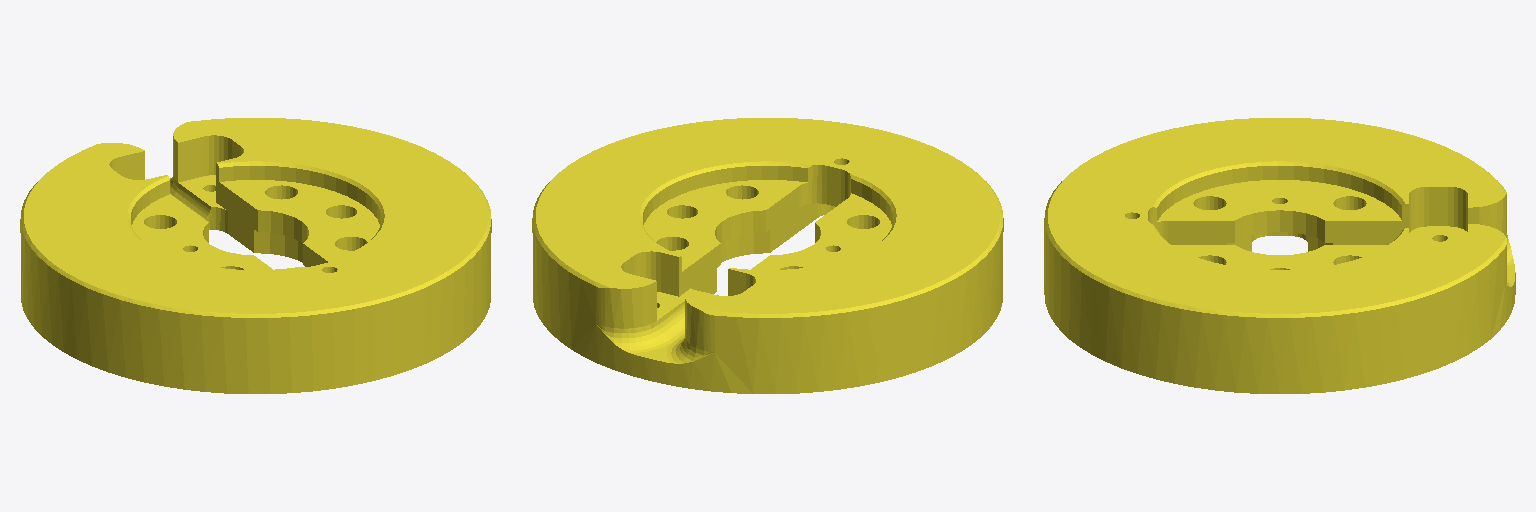
URDF robot description (ur5):
<?xml version="1.0" encoding="utf-8"?>
<!-- =================================================================================== -->
<!-- |    This document was autogenerated by xacro from ur3_robotiq85_gripper.urdf.xacro | -->
<!-- |    EDITING THIS FILE BY HAND IS NOT RECOMMENDED                                 | -->
<!-- =================================================================================== -->
<robot name="ur5">
  <gazebo>
    <plugin filename="libgazebo_ros_control.so" name="ros_control">
      <!--robotNamespace>/</robotNamespace-->
      <!--robotSimType>gazebo_ros_control/DefaultRobotHWSim</robotSimType-->
    </plugin>
    <!--
    <plugin name="gazebo_ros_power_monitor_controller" filename="libgazebo_ros_power_monitor.so">
      <alwaysOn>true</alwaysOn>
      <updateRate>1.0</updateRate>
      <timeout>5</timeout>
      <powerStateTopic>power_state</powerStateTopic>
      <powerStateRate>10.0</powerStateRate>
      <fullChargeCapacity>87.78</fullChargeCapacity>     
      <dischargeRate>-474</dischargeRate>
      <chargeRate>525</chargeRate>
      <dischargeVoltage>15.52</dischargeVoltage>
      <chargeVoltage>16.41</chargeVoltage>
    </plugin>
-->
  </gazebo>
  <!--
  Author: [author]
-->
  <!-- measured from model -->
  <link name="base_link">
    <visual>
      <geometry>
        <mesh filename="../meshes/visual/base.dae"/>
      </geometry>
      <material name="LightGrey">
        <color rgba="0.7 0.7 0.7 1.0"/>
      </material>
    </visual>
    <collision>
      <geometry>
        <mesh filename="../meshes/collision/base.stl"/>
      </geometry>
    </collision>
    <inertial>
      <mass value="2.0"/>
      <origin rpy="0 0 0" xyz="0.0 0.0 0.0"/>
      <inertia ixx="0.0030531654454" ixy="0.0" ixz="0.0" iyy="0.0030531654454" iyz="0.0" izz="0.005625"/>
    </inertial>
  </link>
  <joint name="shoulder_pan_joint" type="revolute">
    <parent link="base_link"/>
    <child link="shoulder_link"/>
    <origin rpy="0.0 0.0 0.0" xyz="0.0 0.0 0.1519"/>
    <axis xyz="0 0 1"/>
    <limit effort="330.0" lower="-3.14159265359" upper="3.14159265359" velocity="2.16"/>
    <dynamics damping="0.0" friction="0.0"/>
  </joint>
  <link name="shoulder_link">
    <visual>
      <geometry>
        <mesh filename="../meshes/visual/shoulder.dae"/>
      </geometry>
      <material name="LightGrey">
        <color rgba="0.7 0.7 0.7 1.0"/>
      </material>
    </visual>
    <collision>
      <geometry>
        <mesh filename="../meshes/collision/shoulder.stl"/>
      </geometry>
    </collision>
    <inertial>
      <mass value="2.0"/>
      <origin rpy="0 0 0" xyz="0.0 0.0 0.0"/>
      <inertia ixx="0.0080931634294" ixy="0.0" ixz="0.0" iyy="0.0080931634294" iyz="0.0" izz="0.005625"/>
    </inertial>
  </link>
  <joint name="shoulder_lift_joint" type="revolute">
    <parent link="shoulder_link"/>
    <child link="upper_arm_link"/>
    <origin rpy="0.0 1.57079632679 0.0" xyz="0.0 0.1198 0.0"/>
    <axis xyz="0 1 0"/>
    <limit effort="330.0" lower="-3.14159265359" upper="3.14159265359" velocity="2.16"/>
    <dynamics damping="0.0" friction="0.0"/>
  </joint>
  <link name="upper_arm_link">
    <visual>
      <geometry>
        <mesh filename="../meshes/visual/upperarm.dae"/>
      </geometry>
      <material name="LightGrey">
        <color rgba="0.7 0.7 0.7 1.0"/>
      </material>
    </visual>
    <collision>
      <geometry>
        <mesh filename="../meshes/collision/upperarm.stl"/>
      </geometry>
    </collision>
    <inertial>
      <mass value="3.42"/>
      <origin rpy="0 0 0" xyz="0.0 0.0 0.121825"/>
      <inertia ixx="0.0217284832211" ixy="0.0" ixz="0.0" iyy="0.0217284832211" iyz="0.0" izz="0.00961875"/>
    </inertial>
  </link>
  <joint name="elbow_joint" type="revolute">
    <parent link="upper_arm_link"/>
    <child link="forearm_link"/>
    <origin rpy="0.0 0.0 0.0" xyz="0.0 -0.0925 0.24365"/>
    <axis xyz="0 1 0"/>
    <limit effort="150.0" lower="-3.14159265359" upper="3.14159265359" velocity="3.15"/>
    <dynamics damping="0.0" friction="0.0"/>
  </joint>
  <link name="forearm_link">
    <visual>
      <geometry>
        <mesh filename="../meshes/visual/forearm.dae"/>
      </geometry>
      <material name="LightGrey">
        <color rgba="0.7 0.7 0.7 1.0"/>
      </material>
    </visual>
    <collision>
      <geometry>
        <mesh filename="../meshes/collision/forearm.stl"/>
      </geometry>
    </collision>
    <inertial>
      <mass value="1.26"/>
      <origin rpy="0 0 0" xyz="0.0 0.0 0.106625"/>
      <inertia ixx="0.00654680644378" ixy="0.0" ixz="0.0" iyy="0.00654680644378" iyz="0.0" izz="0.00354375"/>
    </inertial>
  </link>
  <joint name="wrist_1_joint" type="revolute">
    <parent link="forearm_link"/>
    <child link="wrist_1_link"/>
    <origin rpy="0.0 1.57079632679 0.0" xyz="0.0 0.0 0.21325"/>
    <axis xyz="0 1 0"/>
    <limit effort="54.0" lower="-3.14159265359" upper="3.14159265359" velocity="3.2"/>
    <dynamics damping="0.0" friction="0.0"/>
  </joint>
  <link name="wrist_1_link">
    <visual>
      <geometry>
        <mesh filename="../meshes/visual/wrist1.dae"/>
      </geometry>
      <material name="LightGrey">
        <color rgba="0.7 0.7 0.7 1.0"/>
      </material>
    </visual>
    <collision>
      <geometry>
        <mesh filename="../meshes/collision/wrist1.stl"/>
      </geometry>
    </collision>
    <inertial>
      <mass value="0.8"/>
      <origin rpy="0 0 0" xyz="0.0 0.08505 0.0"/>
      <inertia ixx="0.002084999166" ixy="0.0" ixz="0.0" iyy="0.002084999166" iyz="0.0" izz="0.00225"/>
    </inertial>
  </link>
  <joint name="wrist_2_joint" type="revolute">
    <parent link="wrist_1_link"/>
    <child link="wrist_2_link"/>
    <origin rpy="0.0 0.0 0.0" xyz="0.0 0.08505 0.0"/>
    <axis xyz="0 0 1"/>
    <limit effort="54.0" lower="-3.14159265359" upper="3.14159265359" velocity="3.2"/>
    <dynamics damping="0.0" friction="0.0"/>
  </joint>
  <link name="wrist_2_link">
    <visual>
      <geometry>
        <mesh filename="../meshes/visual/wrist2.dae"/>
      </geometry>
      <material name="LightGrey">
        <color rgba="0.7 0.7 0.7 1.0"/>
      </material>
    </visual>
    <collision>
      <geometry>
        <mesh filename="../meshes/collision/wrist2.stl"/>
      </geometry>
    </collision>
    <inertial>
      <mass value="0.8"/>
      <origin rpy="0 0 0" xyz="0.0 0.0 0.08535"/>
      <inertia ixx="0.002084999166" ixy="0.0" ixz="0.0" iyy="0.002084999166" iyz="0.0" izz="0.00225"/>
    </inertial>
  </link>
  <joint name="wrist_3_joint" type="revolute">
    <parent link="wrist_2_link"/>
    <child link="wrist_3_link"/>
    <origin rpy="0.0 0.0 0.0" xyz="0.0 0.0 0.08535"/>
    <axis xyz="0 1 0"/>
    <limit effort="54.0" lower="-3.14159265359" upper="3.14159265359" velocity="3.2"/>
    <dynamics damping="0.0" friction="0.0"/>
  </joint>
  <link name="wrist_3_link">
    <visual>
      <geometry>
        <mesh filename="../meshes/visual/wrist3.dae"/>
      </geometry>
      <material name="LightGrey">
        <color rgba="0.7 0.7 0.7 1.0"/>
      </material>
    </visual>
    <collision>
      <geometry>
        <mesh filename="../meshes/collision/wrist3.stl"/>
      </geometry>
    </collision>
    <inertial>
      <mass value="0.35"/>
      <origin rpy="1.57079632679 0 0" xyz="0.0 0.0619 0.0"/>
      <inertia ixx="0.00013626661216" ixy="0.0" ixz="0.0" iyy="0.00013626661216" iyz="0.0" izz="0.0001792"/>
    </inertial>
  </link>
  <joint name="ee_fixed_joint" type="fixed">
    <parent link="wrist_3_link"/>
    <child link="ee_link"/>
    <origin rpy="-1.57079632679 3.14159265359 0" xyz="0.0 0.0819 0.0"/>
  </joint>
  <link name="ee_link">
    <collision>
      <geometry>
        <box size="0.01 0.01 0.01"/>
      </geometry>
<!--      <origin rpy="-1.57079632679 0 3.14159265359" xyz="-0.01 0 0"/>-->
      <origin rpy="0 0 0" xyz="-0.01 0 0"/>
    </collision>
  </link>
  <transmission name="shoulder_pan_trans">
    <type>transmission_interface/SimpleTransmission</type>
    <joint name="shoulder_pan_joint">
      <hardwareInterface>hardware_interface/PositionJointInterface</hardwareInterface>
    </joint>
    <actuator name="shoulder_pan_motor">
      <mechanicalReduction>1</mechanicalReduction>
    </actuator>
  </transmission>
  <transmission name="shoulder_lift_trans">
    <type>transmission_interface/SimpleTransmission</type>
    <joint name="shoulder_lift_joint">
      <hardwareInterface>hardware_interface/PositionJointInterface</hardwareInterface>
    </joint>
    <actuator name="shoulder_lift_motor">
      <mechanicalReduction>1</mechanicalReduction>
    </actuator>
  </transmission>
  <transmission name="elbow_trans">
    <type>transmission_interface/SimpleTransmission</type>
    <joint name="elbow_joint">
      <hardwareInterface>hardware_interface/PositionJointInterface</hardwareInterface>
    </joint>
    <actuator name="elbow_motor">
      <mechanicalReduction>1</mechanicalReduction>
    </actuator>
  </transmission>
  <transmission name="wrist_1_trans">
    <type>transmission_interface/SimpleTransmission</type>
    <joint name="wrist_1_joint">
      <hardwareInterface>hardware_interface/PositionJointInterface</hardwareInterface>
    </joint>
    <actuator name="wrist_1_motor">
      <mechanicalReduction>1</mechanicalReduction>
    </actuator>
  </transmission>
  <transmission name="wrist_2_trans">
    <type>transmission_interface/SimpleTransmission</type>
    <joint name="wrist_2_joint">
      <hardwareInterface>hardware_interface/PositionJointInterface</hardwareInterface>
    </joint>
    <actuator name="wrist_2_motor">
      <mechanicalReduction>1</mechanicalReduction>
    </actuator>
  </transmission>
  <transmission name="wrist_3_trans">
    <type>transmission_interface/SimpleTransmission</type>
    <joint name="wrist_3_joint">
      <hardwareInterface>hardware_interface/PositionJointInterface</hardwareInterface>
    </joint>
    <actuator name="wrist_3_motor">
      <mechanicalReduction>1</mechanicalReduction>
    </actuator>
  </transmission>
  <gazebo reference="shoulder_link">
    <selfCollide>true</selfCollide>
  </gazebo>
  <gazebo reference="upper_arm_link">
    <selfCollide>true</selfCollide>
  </gazebo>
  <gazebo reference="forearm_link">
    <selfCollide>true</selfCollide>
  </gazebo>
  <gazebo reference="wrist_1_link">
    <selfCollide>true</selfCollide>
  </gazebo>
  <gazebo reference="wrist_3_link">
    <selfCollide>true</selfCollide>
  </gazebo>
  <gazebo reference="wrist_2_link">
    <selfCollide>true</selfCollide>
  </gazebo>
  <gazebo reference="ee_link">
    <selfCollide>true</selfCollide>
  </gazebo>
  <!-- ROS base_link to UR 'Base' Coordinates transform -->
  <link name="base"/>
  <joint name="base_link-base_fixed_joint" type="fixed">
    <!-- NOTE: this rotation is only needed as long as base_link itself is
                 not corrected wrt the real robot (ie: rotated over 180
                 degrees)
      -->
    <origin rpy="0 0 0" xyz="0 0 0"/> <!-- rpy="0 0 -3.14159265359" -->
    <parent link="base_link"/>
    <child link="base"/>
  </joint>
  <!-- Frame coincident with all-zeros TCP on UR controller -->
  <link name="tool0"/>
  <joint name="wrist_3_link-tool0_fixed_joint" type="fixed">
    <origin rpy="0 0 0" xyz="0 0 0"/> <!-- <origin rpy="-1.57079632679 0 0" xyz="0 0.0819 0"/> -->
    <parent link="ee_link"/>
    <child link="tool0"/>
  </joint>
  <link name="world"/>
  <joint name="world_joint" type="fixed">
    <parent link="world"/>
    <child link="base_link"/>
    <origin rpy="0.0 0.0 0.0" xyz="0.0 0.0 0.0"/>
  </joint>
  <!-- Robotiq Coupler -->
  <!--  + Height added by the coupler: 8mm -->
  <!--  + Reference frame: at the middle (4mm) -->
  <link name="robotiq_coupler">
    <visual>
      <geometry>
        <mesh filename="../../robotiq_description/meshes/visual/robotiq_85_coupler.dae"/>
      </geometry>
      <material name="flat_black"/>
    </visual>
    <collision>
      <geometry>
        <mesh filename="../../robotiq_description/meshes/robotiq_85_coupler.stl"/>
      </geometry>
    </collision>
    <inertial>
      <origin rpy="0 0 0" xyz="2.073e-05   1.45286e-03  -1.1049e-03"/>
      <mass value="0.168"/>
      <inertia ixx="6.69695624e-05" ixy="5.21511788e-09" ixz="-2.74383009e-08" iyy="7.85088161e-05" iyz="5.41105193e-07" izz="1.41819717e-04"/>
    </inertial>
  </link>
  <joint name="robotiq_coupler_joint" type="fixed">
    <origin rpy="-1.57079632679 0 0" xyz="0 0 0"/> <!--    <origin rpy="0 0 -1.57079632679" xyz="0 0 0.004"/>-->
    <parent link="tool0"/>
    <child link="robotiq_coupler"/>
  </joint>
  <gazebo reference="robotiq_coupler">
    <mu1>0.9</mu1>
    <mu2>0.9</mu2>
    <material>Gazebo/FlatBlack</material>
  </gazebo>
  <!-- Equivalent to the OpenRAVE manipulator denso_robotiq_85_gripper -->
  <!-- <link name="denso_robotiq_85_gripper" /> -->
  <!-- <joint name="manipulator_dummy_joint" type="fixed"> -->
  <!--   <origin xyz="0 0 0.1441" rpy="0 0 0" /> -->
  <!--   <parent link="robotiq_coupler"/> -->
  <!--   <child link="denso_robotiq_85_gripper"/> -->
  <!-- </joint> -->
  <joint name="robotiq_85_base_joint" type="fixed">
    <parent link="robotiq_coupler"/>
    <child link="robotiq_85_base_link"/>
<!--    <origin rpy="0 -1.57079632679 3.14159265359" xyz="0 0 0.004"/>-->
    <origin rpy="0 0 -1.57079632679" xyz="0 0 0"/>
  </joint>
  <link name="robotiq_85_base_link">
    <visual>
      <geometry>
        <mesh filename="../../robotiq_description/meshes/visual/robotiq_85_base_link.dae"/>
      </geometry>
    </visual>
    <collision>
      <geometry>
        <mesh filename="../../robotiq_description/meshes/collision/robotiq_85_base_link.stl"/>
      </geometry>
    </collision>
    <inertial>
      <mass value="0.636951"/>
      <origin xyz="0.0 0.0 0.0"/>
      <inertia ixx="0.000380" ixy="0.000000" ixz="0.000000" iyx="0.000000" iyy="0.001110" iyz="0.000000" izx="0.000000" izy="0.000000" izz="0.001171"/>
    </inertial>
  </link>
  <joint name="robotiq_85_left_knuckle_joint" type="revolute">  <!-- (8), revolute -->
    <parent link="robotiq_85_base_link"/>
    <child link="robotiq_85_left_knuckle_link"/>
    <axis xyz="0 0 1"/>
    <origin rpy="3.14159265359 0.0 0.0" xyz="0.05490451627 0.03060114443 0.0"/>
    <limit effort="100" lower="0.0" upper="0.80285" velocity="0.2"/>
  </joint>
  <joint name="robotiq_85_right_knuckle_joint" type="revolute"> <!-- (11), continuous -->
    <parent link="robotiq_85_base_link"/>
    <child link="robotiq_85_right_knuckle_link"/>
    <axis xyz="0 0 1"/>
    <origin rpy="0.0 0.0 0.0" xyz="0.05490451627 -0.03060114443 0.0"/>
    <limit effort="100" lower="0.0" upper="0.80285" velocity="0.2"/>
  </joint>
  <link name="robotiq_85_left_knuckle_link">
    <visual>
      <geometry>
        <mesh filename="../../robotiq_description/meshes/visual/robotiq_85_knuckle_link.dae"/>
      </geometry>
    </visual>
    <collision>
      <geometry>
        <mesh filename="../../robotiq_description/meshes/collision/robotiq_85_knuckle_link.stl"/>
      </geometry>
    </collision>
    <inertial>
      <mass value="0.018491"/>
      <origin xyz="0.0 0.0 0.0"/>
      <inertia ixx="0.000009" ixy="-0.000001" ixz="0.000000" iyx="-0.000001" iyy="0.000001" iyz="0.000000" izx="0.000000" izy="0.000000" izz="0.000010"/>
    </inertial>
  </link>
  <link name="robotiq_85_right_knuckle_link">
    <visual>
      <geometry>
        <mesh filename="../../robotiq_description/meshes/visual/robotiq_85_knuckle_link.dae"/>
      </geometry>
    </visual>
    <collision>
      <geometry>
        <mesh filename="../../robotiq_description/meshes/collision/robotiq_85_knuckle_link.stl"/>
      </geometry>
    </collision>
    <inertial>
      <mass value="0.018491"/>
      <origin xyz="0.0 0.0 0.0"/>
      <inertia ixx="0.000009" ixy="-0.000001" ixz="0.000000" iyx="-0.000001" iyy="0.000001" iyz="0.000000" izx="0.000000" izy="0.000000" izz="0.000010"/>
    </inertial>
  </link>
  <joint name="robotiq_85_left_finger_joint" type="fixed">
    <parent link="robotiq_85_left_knuckle_link"/>
    <child link="robotiq_85_left_finger_link"/>
    <origin rpy="0 0 0" xyz="-0.00408552455 -0.03148604435 0.0"/>
  </joint>
  <joint name="robotiq_85_right_finger_joint" type="fixed">
    <parent link="robotiq_85_right_knuckle_link"/>
    <child link="robotiq_85_right_finger_link"/>
    <origin rpy="0 0 0" xyz="-0.00408552455 -0.03148604435 0.0"/>
  </joint>
  <link name="robotiq_85_left_finger_link">
    <visual>
      <geometry>
        <mesh filename="../../robotiq_description/meshes/visual/robotiq_85_finger_link.dae"/>
      </geometry>
    </visual>
    <collision>
      <geometry>
        <mesh filename="../../robotiq_description/meshes/collision/robotiq_85_finger_link.stl"/>
      </geometry>
    </collision>
    <inertial>
      <mass value="0.027309"/>
      <origin xyz="0.0 0.0 0.0"/>
      <inertia ixx="0.000003" ixy="-0.000002" ixz="0.000000" iyx="-0.000002" iyy="0.000021" iyz="0.000000" izx="0.000000" izy="0.000000" izz="0.000020"/>
    </inertial>
  </link>
  <link name="robotiq_85_right_finger_link">
    <visual>
      <geometry>
        <mesh filename="../../robotiq_description/meshes/visual/robotiq_85_finger_link.dae"/>
      </geometry>
    </visual>
    <collision>
      <geometry>
        <mesh filename="../../robotiq_description/meshes/collision/robotiq_85_finger_link.stl"/>
      </geometry>
    </collision>
    <inertial>
      <mass value="0.027309"/>
      <origin xyz="0.0 0.0 0.0"/>
      <inertia ixx="0.000003" ixy="-0.000002" ixz="0.000000" iyx="-0.000002" iyy="0.000021" iyz="0.000000" izx="0.000000" izy="0.000000" izz="0.000020"/>
    </inertial>
  </link>
  <joint name="robotiq_85_left_inner_knuckle_joint" type="revolute">  <!-- (6), continuous -->
    <parent link="robotiq_85_base_link"/>
    <child link="robotiq_85_left_inner_knuckle_link"/>
    <axis xyz="0 0 1"/>
    <origin rpy="3.14159265359 0.0 0.0" xyz="0.06142 0.0127 0"/>
    <limit effort="100" lower="0.0" upper="0.80285" velocity="0.2"/>  <!-- limit unit: radian -->
  </joint>
  <joint name="robotiq_85_right_inner_knuckle_joint" type="revolute"> <!-- (9), continuous -->
    <parent link="robotiq_85_base_link"/>
    <child link="robotiq_85_right_inner_knuckle_link"/>
    <axis xyz="0 0 1"/>
    <origin rpy="0 0 0" xyz="0.06142 -0.0127 0"/>
    <limit effort="100" lower="0.0" upper="0.80285" velocity="0.2"/>
  </joint>
  <link name="robotiq_85_left_inner_knuckle_link">
    <visual>
      <geometry>
        <mesh filename="../../robotiq_description/meshes/visual/robotiq_85_inner_knuckle_link.dae"/>
      </geometry>
    </visual>
    <collision>
      <geometry>
        <mesh filename="../../robotiq_description/meshes/collision/robotiq_85_inner_knuckle_link.stl"/>
      </geometry>
    </collision>
    <inertial>
      <mass value="0.029951"/>
      <origin xyz="0.0 0.0 0.0"/>
      <inertia ixx="0.000039" ixy="0.000000" ixz="0.000000" iyx="0.000000" iyy="0.000005" iyz="0.000000" izx="0.000000" izy="0.000000" izz="0.000035"/>
    </inertial>
  </link>
  <link name="robotiq_85_right_inner_knuckle_link">
    <visual>
      <geometry>
        <mesh filename="../../robotiq_description/meshes/visual/robotiq_85_inner_knuckle_link.dae"/>
      </geometry>
    </visual>
    <collision>
      <geometry>
        <mesh filename="../../robotiq_description/meshes/collision/robotiq_85_inner_knuckle_link.stl"/>
      </geometry>
    </collision>
    <inertial>
      <mass value="0.029951"/>
      <origin xyz="0.0 0.0 0.0"/>
      <inertia ixx="0.000039" ixy="0.000000" ixz="0.000000" iyx="0.000000" iyy="0.000005" iyz="0.000000" izx="0.000000" izy="0.000000" izz="0.000035"/>
    </inertial>
  </link>
  <joint name="robotiq_85_left_finger_tip_joint" type="revolute"> <!-- (7), continuous -->
    <parent link="robotiq_85_left_inner_knuckle_link"/>
    <child link="robotiq_85_left_finger_tip_link"/>
    <axis xyz="0 0 1"/>
    <origin rpy="0.0 0.0 0.0" xyz="0.04303959807 -0.03759940821 0.0"/>
    <limit effort="100" lower="-0.80285" upper="0.0" velocity="0.2"/>
  </joint>
  <joint name="robotiq_85_right_finger_tip_joint" type="revolute"> <!-- (10), continuous -->
    <parent link="robotiq_85_right_inner_knuckle_link"/>
    <child link="robotiq_85_right_finger_tip_link"/>
    <axis xyz="0 0 1"/>
    <origin rpy="0.0 0.0 0.0" xyz="0.04303959807 -0.03759940821  0.0"/>
    <limit effort="100" lower="-0.80285" upper="0.0" velocity="0.2"/>
  </joint>
  <link name="robotiq_85_left_finger_tip_link">
    <visual>
      <geometry>
        <mesh filename="../../robotiq_description/meshes/visual/robotiq_85_finger_tip_link.dae"/>
      </geometry>
    </visual>
    <collision>
      <geometry>
        <mesh filename="../../robotiq_description/meshes/collision/robotiq_85_finger_tip_link.stl"/>
      </geometry>
    </collision>
    <inertial>
      <mass value="0.019555"/>
      <origin xyz="0.0 0.0 0.0"/>
      <inertia ixx="0.000002" ixy="0.000000" ixz="0.000000" iyx="0.000000" iyy="0.000005" iyz="0.000000" izx="0.000000" izy="0.000000" izz="0.000006"/>
    </inertial>
  </link>
  <link name="robotiq_85_right_finger_tip_link">
    <visual>
      <geometry>
        <mesh filename="../../robotiq_description/meshes/visual/robotiq_85_finger_tip_link.dae"/>
      </geometry>
    </visual>
    <collision>
      <geometry>
        <mesh filename="../../robotiq_description/meshes/collision/robotiq_85_finger_tip_link.stl"/>
      </geometry>
    </collision>
    <inertial>
      <mass value="0.019555"/>
      <origin xyz="0.0 0.0 0.0"/>
      <inertia ixx="0.000002" ixy="0.000000" ixz="0.000000" iyx="0.000000" iyy="0.000005" iyz="0.000000" izx="0.000000" izy="0.000000" izz="0.000006"/>
    </inertial>
  </link>
  <!-- Improve grasping physics -->
  <gazebo reference="robotiq_85_left_finger_tip_link">
    <kp>1000000.0</kp>
    <kd>1.0</kd>
    <mu1>1.0</mu1>
    <mu2>1.0</mu2>
    <minDepth>0.001</minDepth>
  </gazebo>
  <gazebo reference="robotiq_85_right_finger_tip_link">
    <kp>1000000.0</kp>
    <kd>1.0</kd>
    <mu1>1.0</mu1>
    <mu2>1.0</mu2>
    <minDepth>0.001</minDepth>
  </gazebo>
  <transmission name="robotiq_85_left_knuckle_trans">
    <type>transmission_interface/SimpleTransmission</type>
    <joint name="robotiq_85_left_knuckle_joint">
      <hardwareInterface>PositionJointInterface</hardwareInterface>
      <!-- <hardwareInterface>EffortJointInterface</hardwareInterface> -->
    </joint>
    <actuator name="robotiq_85_left_knuckle_motor">
      <mechanicalReduction>1</mechanicalReduction>
      <hardwareInterface>PositionJointInterface</hardwareInterface>
      <!-- <hardwareInterface>EfforJointInterface</hardwareInterface> -->
    </actuator>
  </transmission>
  <!-- <mimic joint="robotiq_85_left_knuckle_joint" offset="0"/> -->
</robot>

--- What the picture shows (computed from the rendered views, not written in the file) ---
The picture shows the robot from 3 angles, left to right: view 1: azimuth 30°, elevation 25°; view 2: azimuth 150°, elevation 25°; view 3: azimuth 270°, elevation 25°; orthographic projection.
Robot: ur5 — 21 links, 20 joints (12 revolute, 8 fixed); root link world; default pose: all joints at 0.
Visible links, largest first — view 1: robotiq_coupler; view 2: robotiq_coupler; view 3: robotiq_coupler.
Link boxes in pixels (left/top/right/bottom): robotiq_coupler: left=20, top=118, right=491, bottom=393; robotiq_coupler: left=532, top=118, right=1003, bottom=393; robotiq_coupler: left=1044, top=118, right=1515, bottom=393.
Size in the robot's own frame: 0.075 by 0.075 by 0.0139 metres.
1 mesh visuals loaded from 13 distinct referenced files (1 Collada DAE); not drawn: 16 (reference not matched to a file when rendering).